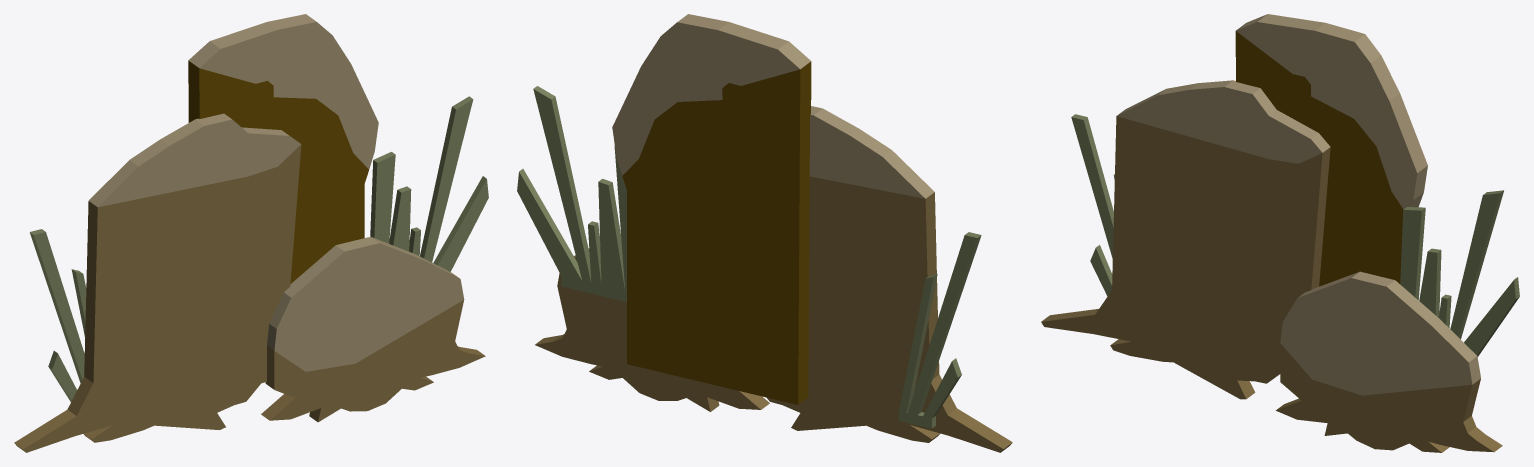
Rendered from Wood_Log_2.fbx.
3 views of the same model, side by side, from view 1: azimuth 30°, elevation 25°; view 2: azimuth 150°, elevation 25°; view 3: azimuth 330°, elevation 25° (orthographic). The views are drawn at different scales.
Visible parts, largest first — view 1: pPlane1, pPlane2, pPlane3, polySurface2, polySurface1; view 2: pPlane3, pPlane1, polySurface2, pPlane2, polySurface1; view 3: pPlane1, pPlane2, pPlane3, polySurface2, polySurface1.
Boxes of the visible parts, x1=… form: pPlane1: x1=14, y1=113, x2=301, y2=452; pPlane2: x1=261, y1=236, x2=485, y2=422; pPlane3: x1=188, y1=14, x2=378, y2=283; polySurface2: x1=370, y1=96, x2=488, y2=271; polySurface1: x1=29, y1=229, x2=86, y2=401; pPlane3: x1=612, y1=14, x2=811, y2=404; pPlane1: x1=766, y1=106, x2=1012, y2=452; polySurface2: x1=517, y1=86, x2=626, y2=301; pPlane2: x1=535, y1=248, x2=769, y2=411; polySurface1: x1=899, y1=232, x2=981, y2=428; pPlane1: x1=1041, y1=80, x2=1330, y2=399; pPlane2: x1=1276, y1=271, x2=1502, y2=452; pPlane3: x1=1235, y1=14, x2=1427, y2=286; polySurface2: x1=1400, y1=190, x2=1519, y2=356; polySurface1: x1=1071, y1=114, x2=1114, y2=296.
Size of the model in its own units: 3.83 by 3.02 by 0.3828.
